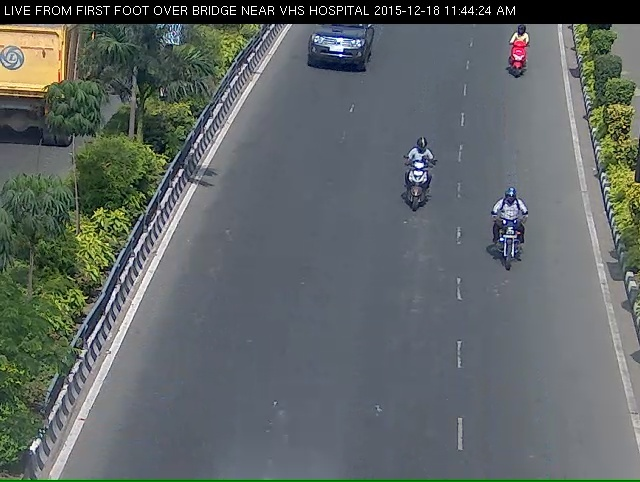Person: (480, 191, 545, 291), (391, 146, 442, 226), (504, 27, 535, 92)
